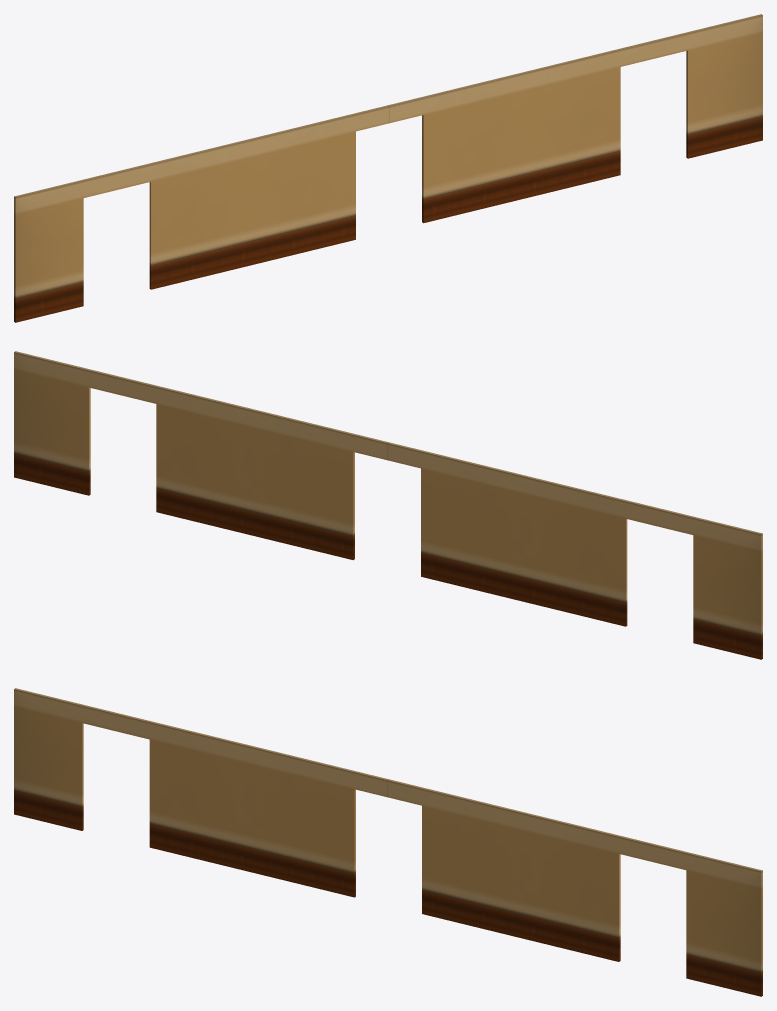
The model's file is Wall_Door_04.FBX.
3 renders of one model, top to bottom at view 1: azimuth 30°, elevation 25°; view 2: azimuth 150°, elevation 25°; view 3: azimuth 330°, elevation 25°, orthographic.
Parts seen in each view (by area): view 1: Wall_Door_04; view 2: Wall_Door_04; view 3: Wall_Door_04.
Boxes of the visible parts, left/top/right/bottom form: Wall_Door_04: left=14, top=14, right=762, bottom=322; Wall_Door_04: left=14, top=351, right=762, bottom=659; Wall_Door_04: left=14, top=688, right=762, bottom=996.
Size of the model in its own units: 571 by 91.45 by 2.
